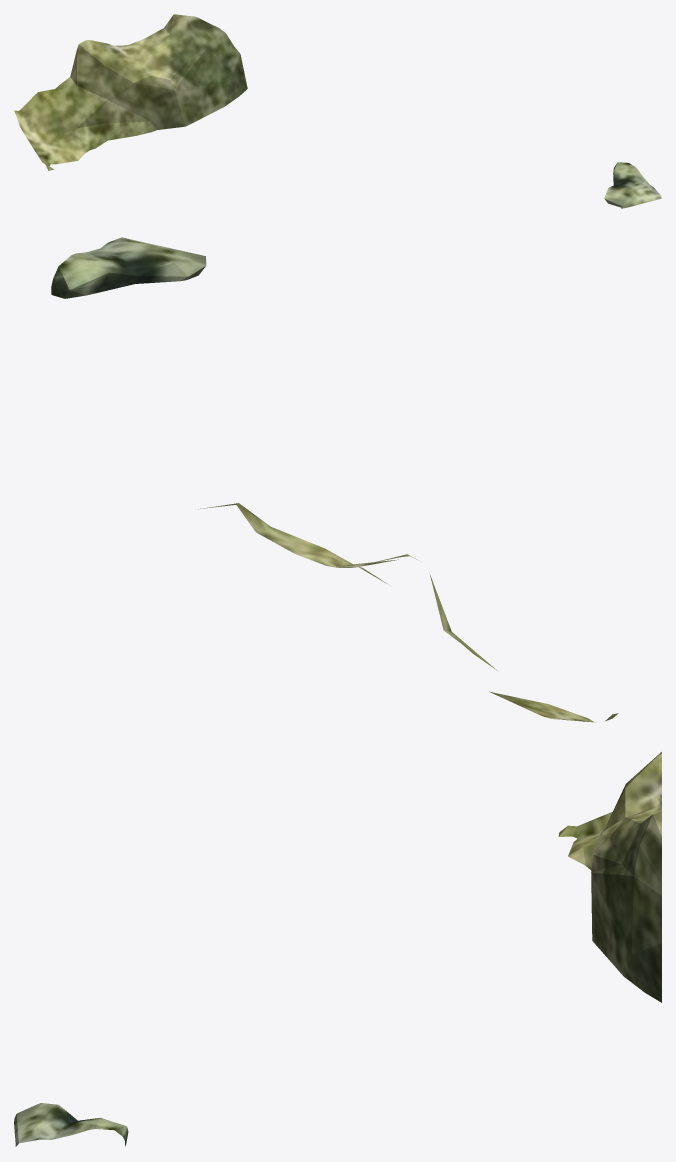
3 renders of one model, top to bottom at view 1: azimuth 30°, elevation 25°; view 2: azimuth 150°, elevation 25°; view 3: azimuth 270°, elevation 25°, orthographic. The views are drawn at different scales.
Bounding box in the file's own units: 5.9 × 1.21 × 5.13.
Materials: 1 (1 with a texture image).
